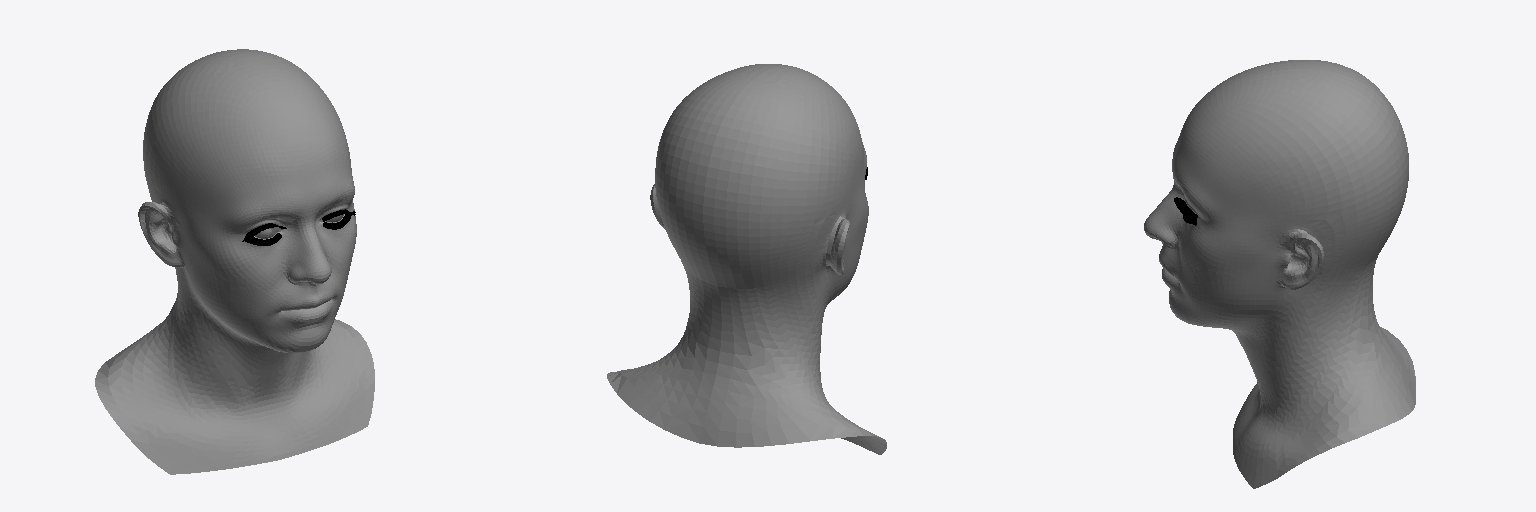
File: eyeWide_R.obj
3 renders of one model, left to right at view 1: azimuth 30°, elevation 25°; view 2: azimuth 150°, elevation 25°; view 3: azimuth 270°, elevation 25°, orthographic.
Bounding box in the file's own units: 24.83 × 33.81 × 22.32.